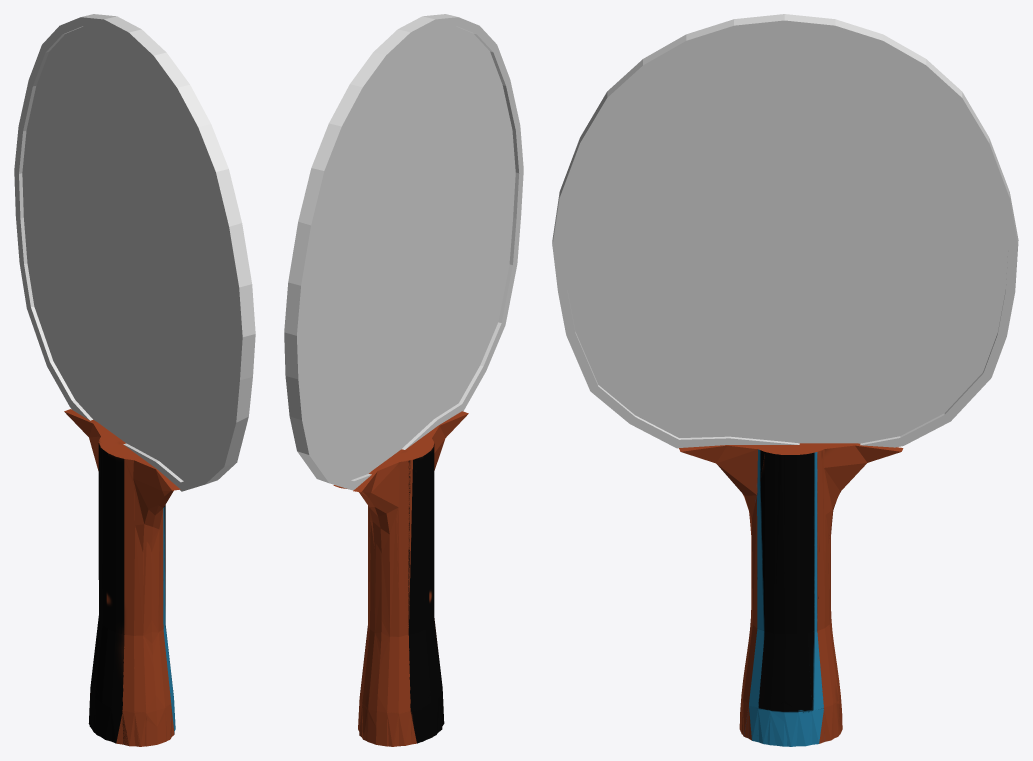
The model's file is paddle.fbx.
The picture shows the model from 3 angles, left to right: view 1: azimuth 30°, elevation 25°; view 2: azimuth 150°, elevation 25°; view 3: azimuth 270°, elevation 25°; orthographic projection. The views are drawn at different scales.
Parts seen in each view (by area): view 1: Cylinder, handle; view 2: Cylinder, handle; view 3: Cylinder, handle.
Boxes of the visible parts, x1=… form: Cylinder: x1=14, y1=14, x2=255, y2=491; handle: x1=64, y1=409, x2=180, y2=746; Cylinder: x1=284, y1=14, x2=523, y2=490; handle: x1=333, y1=411, x2=468, y2=746; Cylinder: x1=552, y1=14, x2=1018, y2=448; handle: x1=679, y1=443, x2=903, y2=746.
Size of the model in its own units: 104 by 973 by 578.
